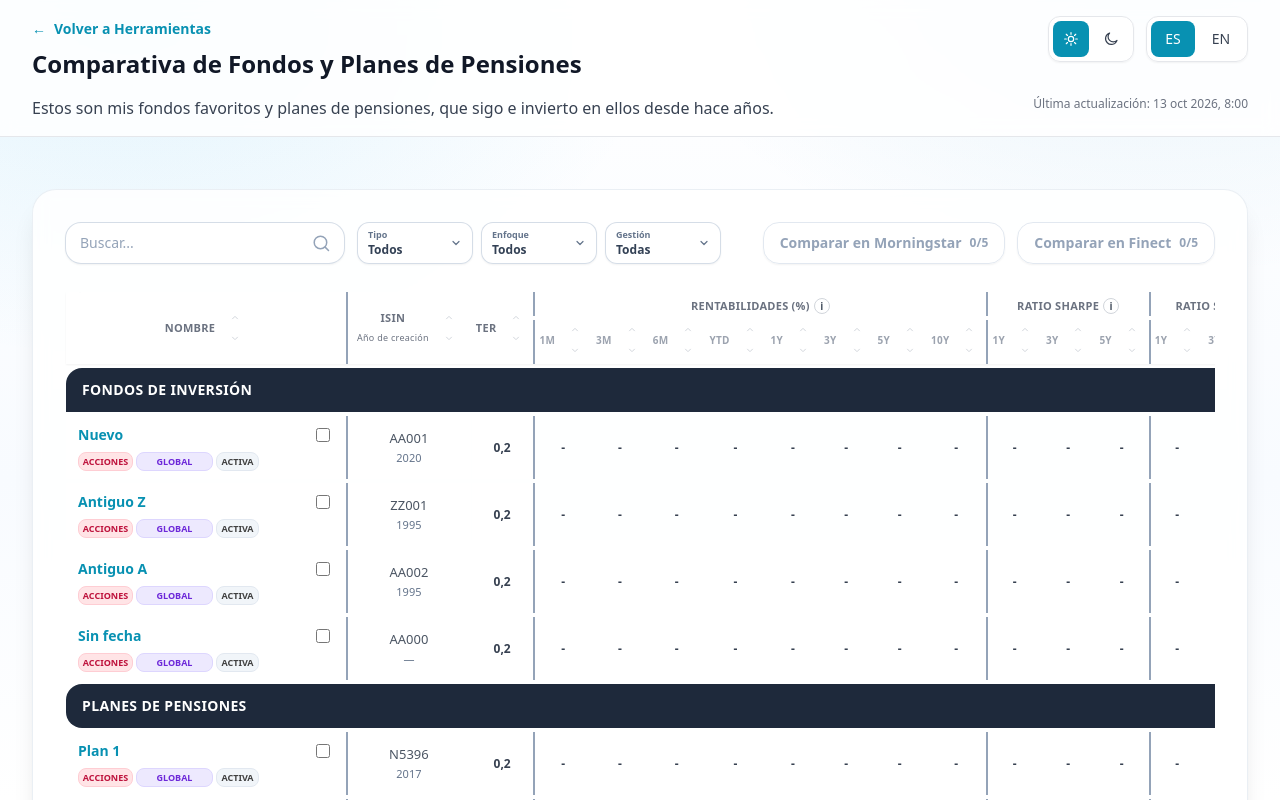
it: sorting regression › sorts the ISIN column by inception year only, leaves missing years last and keeps tied years in source order
Expected: the text named "Año de creación: Sin datos" reads "—", [403, 650, 414, 666]
Click the button named "Orden ascendente por Año de creación" at (449, 318), box [437, 308, 461, 328]
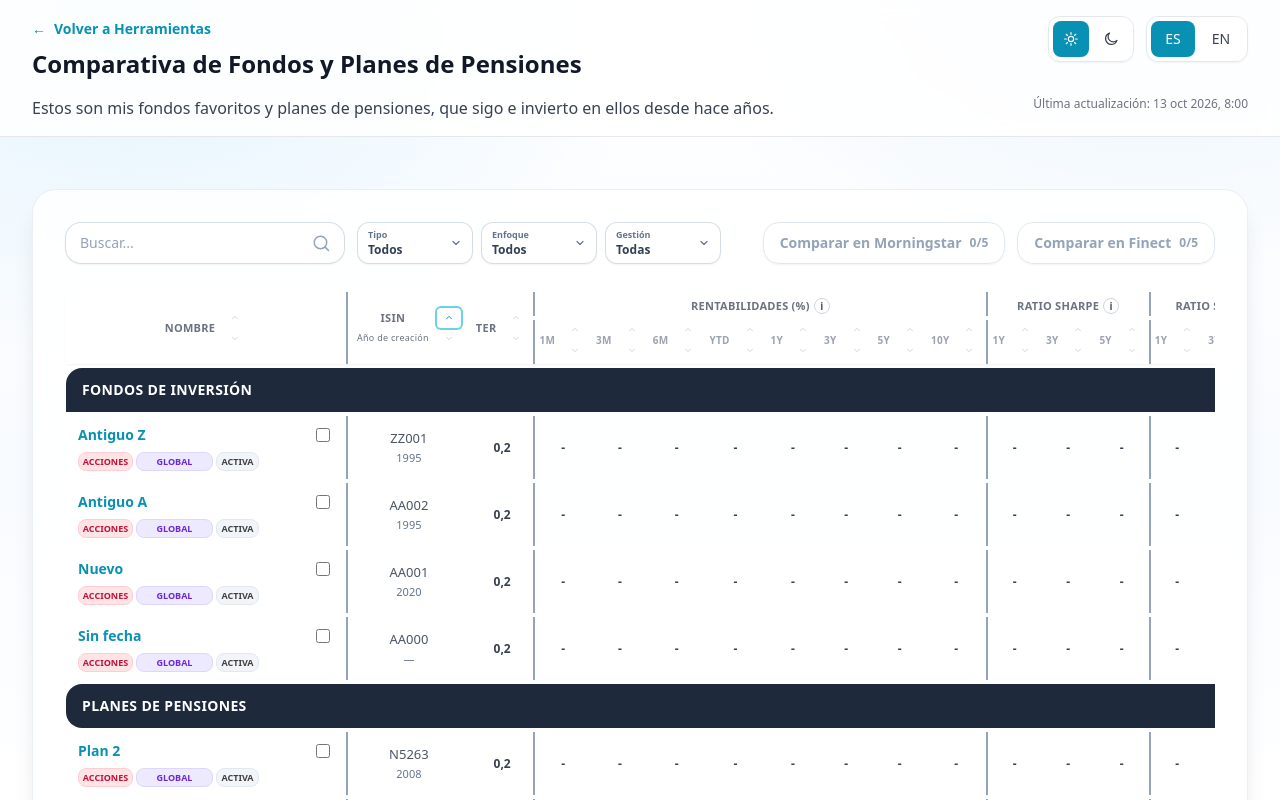
Click the button named "Orden descendente por Año de creación" at (449, 338), box [437, 328, 461, 348]
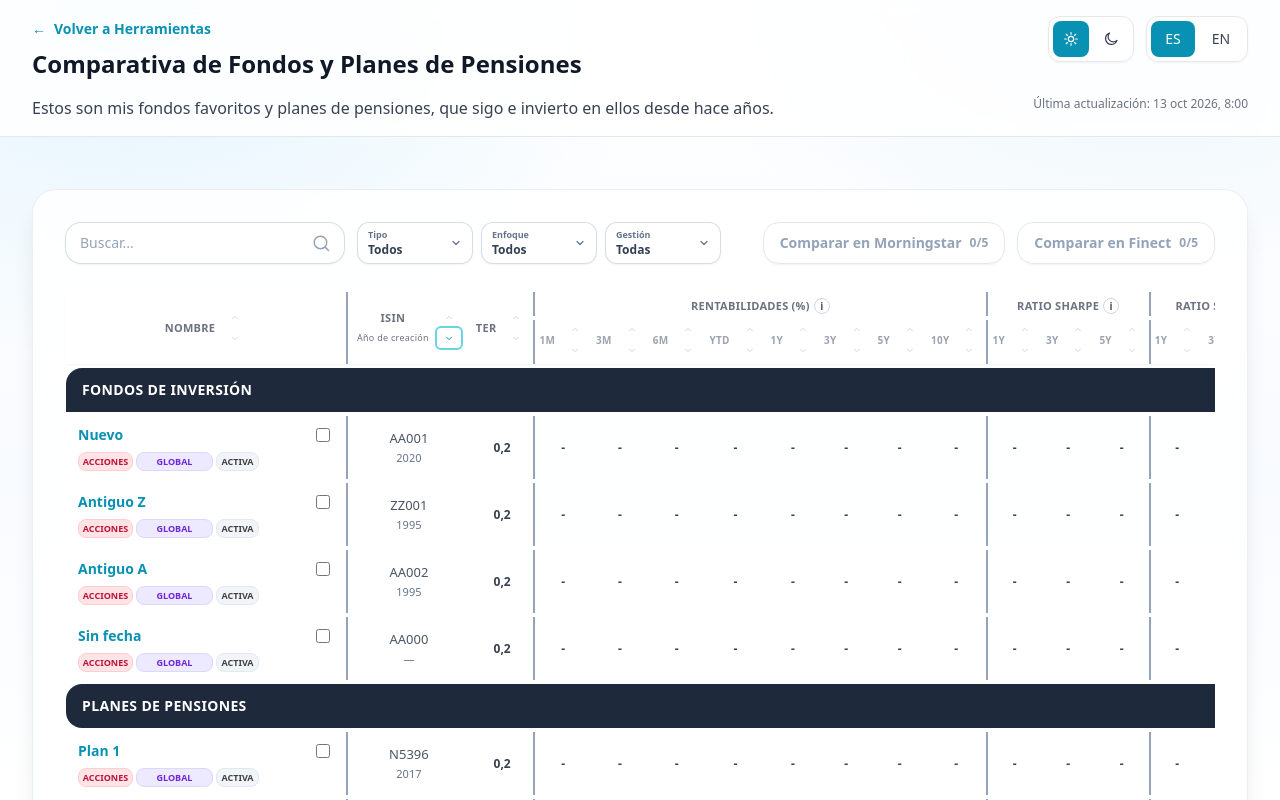
Click the button "EN" at (1221, 39), box [1199, 21, 1243, 57]
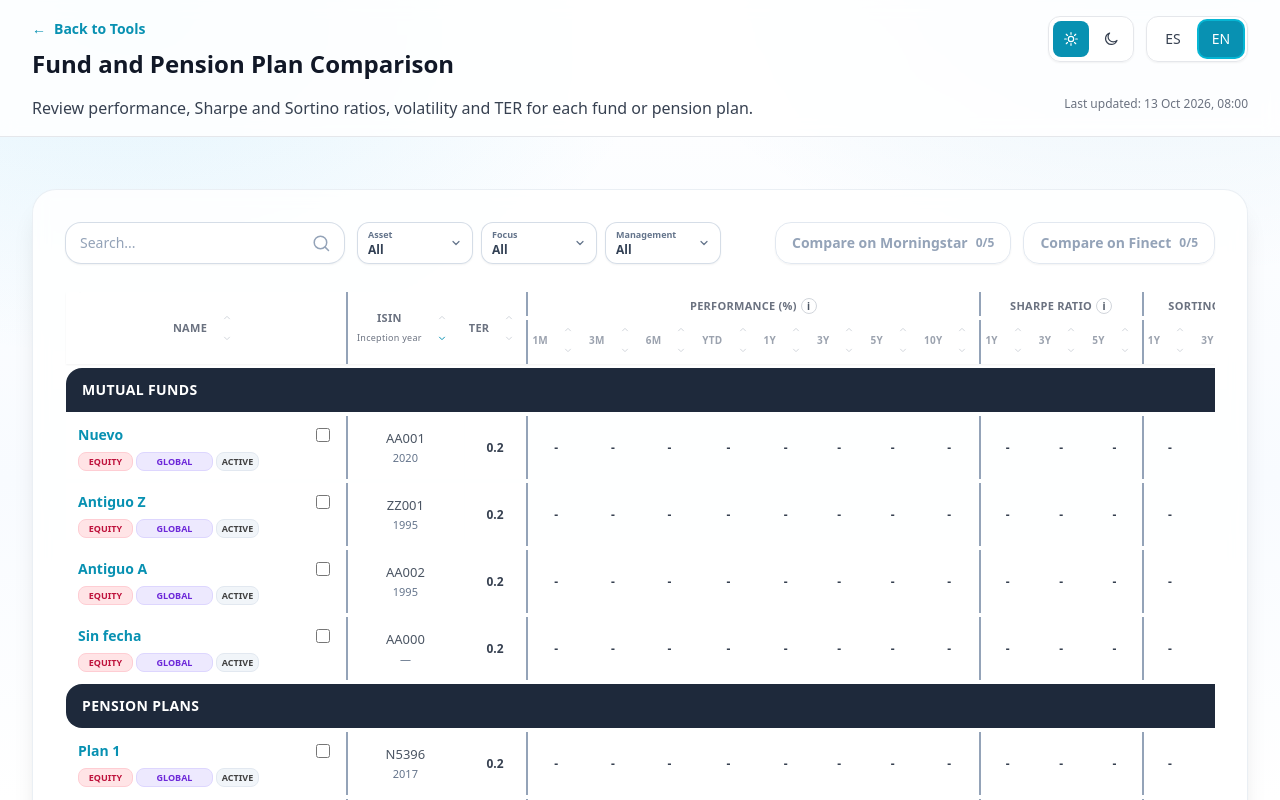
Expected: the button named "Sort ascending by Inception year" is shown, [430, 308, 454, 328]
